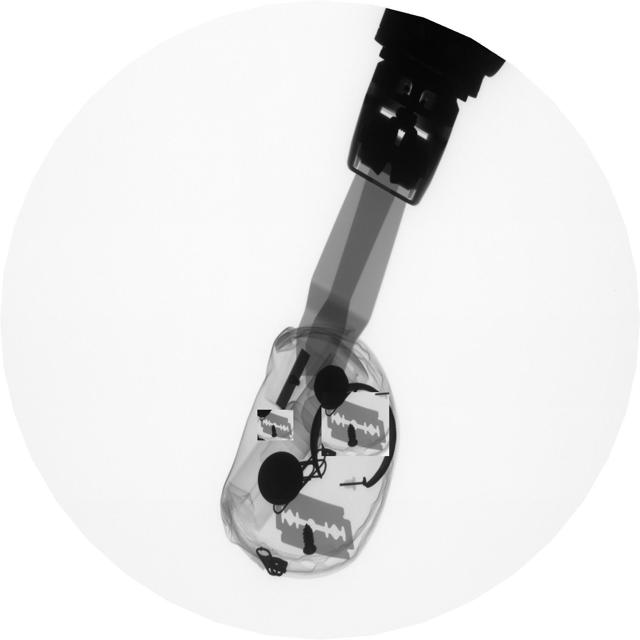razor: (278, 491, 366, 568), (322, 398, 399, 460), (258, 411, 296, 443)
